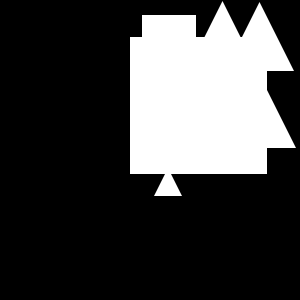circle: (130, 37, 267, 174), (142, 15, 196, 69)
triangle: (149, 1, 296, 148), (225, 2, 294, 71), (154, 168, 182, 196)
